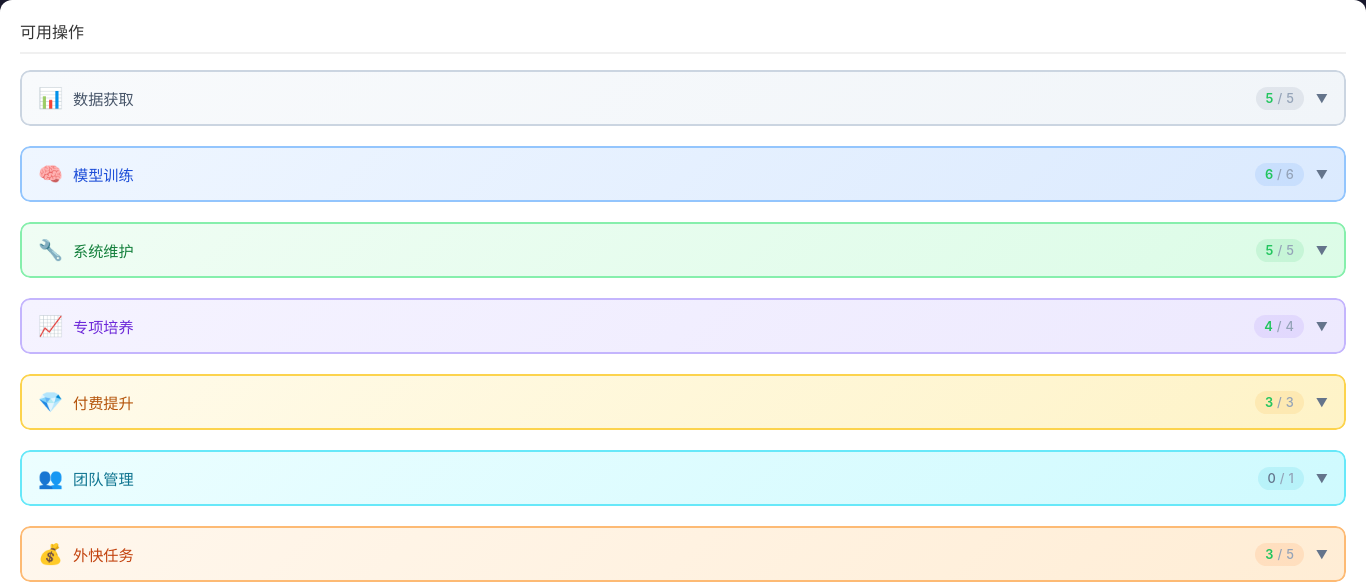
Test case: OperationsPanel › 应该支持同时展开多个类别
Click the text "数据获取": [103, 100] box [73,90,134,109]
(page scrolled)
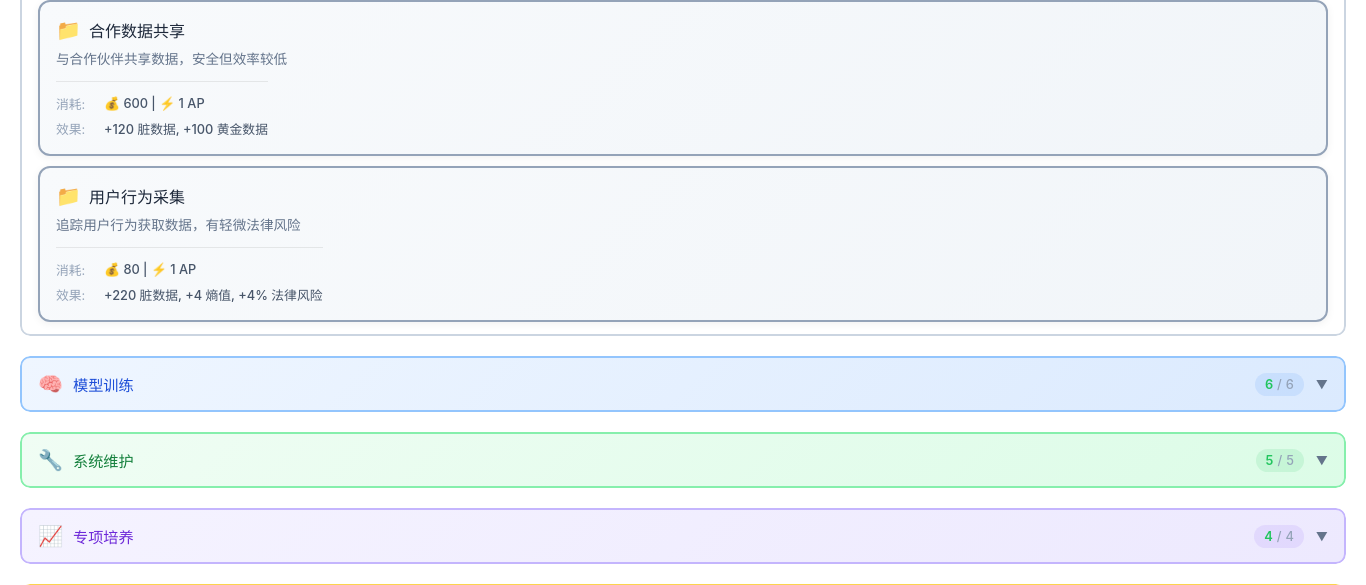
Click the text "模型训练": [103, 386] box [73,376,134,395]
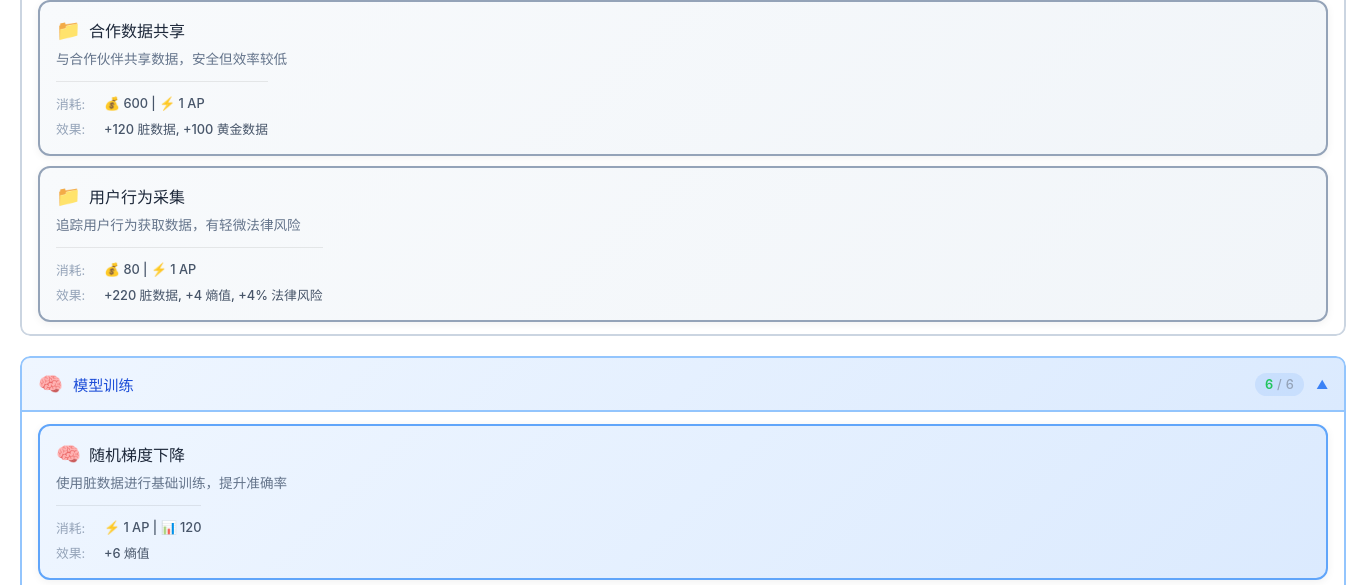
Expected: the text "随机梯度下降" is shown, [89,442,185,466]
